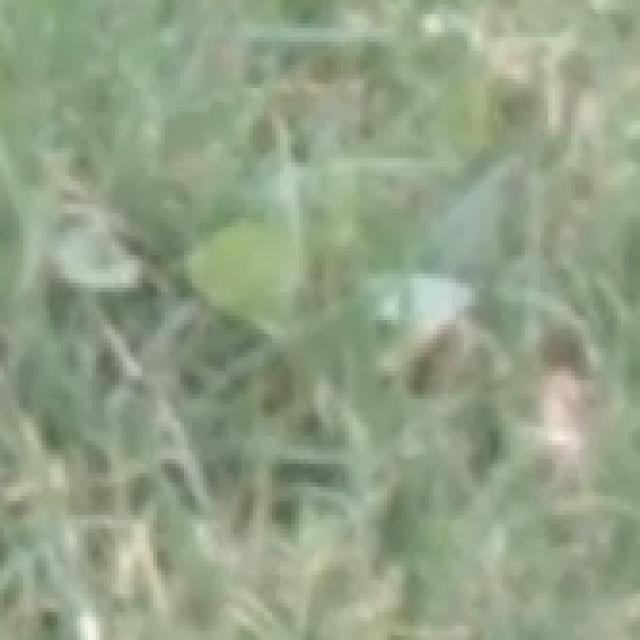organic waste: (110, 106, 484, 400)
